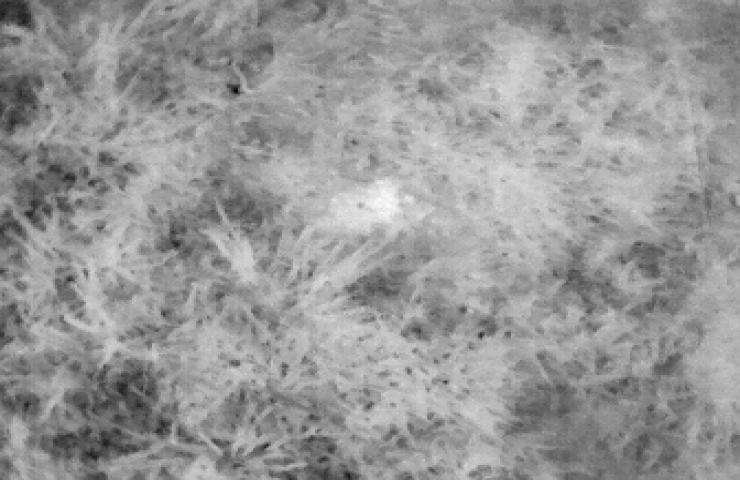landmines: (329, 166, 407, 229)
